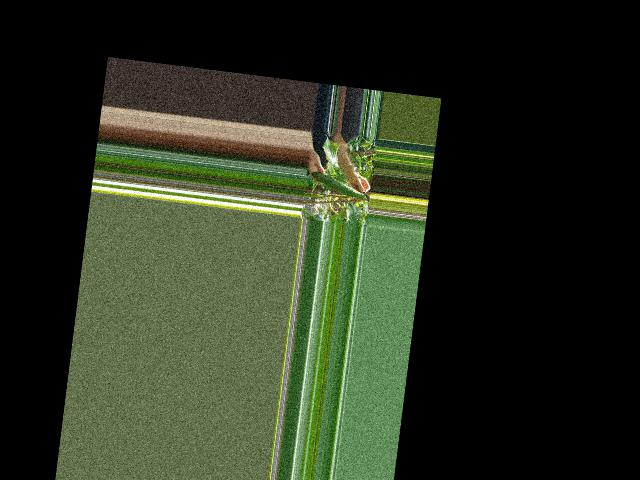cucumber: (309, 170, 366, 198)
